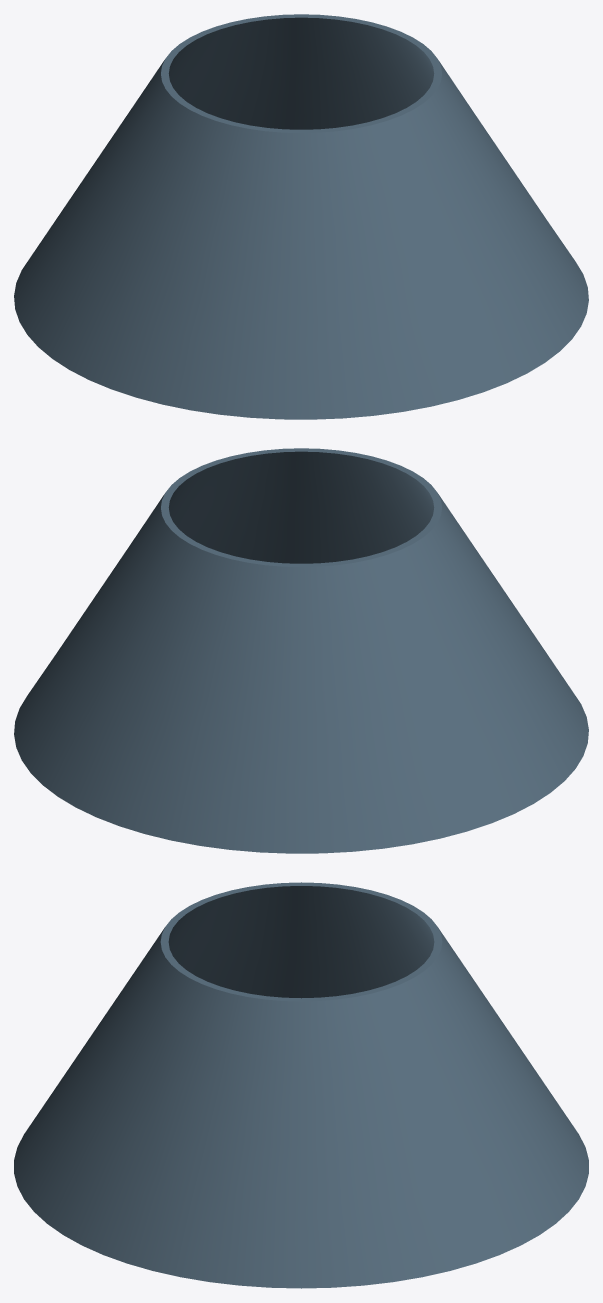
Rendered from perehod-325x8-159x4_5-L140.glb.
3 views of the same model, one above another, from view 1: azimuth 30°, elevation 25°; view 2: azimuth 150°, elevation 25°; view 3: azimuth 270°, elevation 25° (orthographic).
Visible parts, largest first — view 1: Open CASCADE STEP translator 7.9 54; view 2: Open CASCADE STEP translator 7.9 54; view 3: Open CASCADE STEP translator 7.9 54.
Part boxes in pixels (x1,y1,x2,y2): Open CASCADE STEP translator 7.9 54: (14, 14, 588, 419); Open CASCADE STEP translator 7.9 54: (14, 448, 588, 853); Open CASCADE STEP translator 7.9 54: (14, 882, 588, 1288).
Size of the model in its own units: 325 by 140 by 325.
